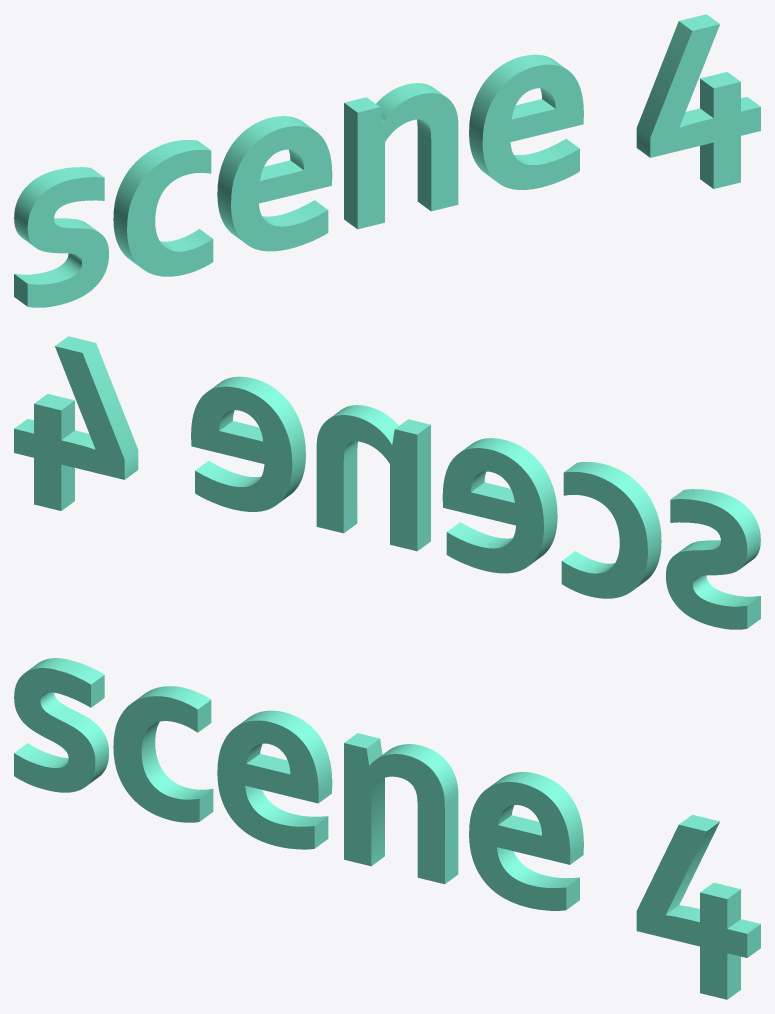
3 views of the same model, one above another, from view 1: azimuth 30°, elevation 25°; view 2: azimuth 150°, elevation 25°; view 3: azimuth 330°, elevation 25° (orthographic).
Parts seen in each view (by area): view 1: Polygon_2, Polygon_5, Polygon_3, Polygon_4, Polygon, Polygon_6; view 2: Polygon_2, Polygon_5, Polygon_3, Polygon_4, Polygon, Polygon_6; view 3: Polygon_5, Polygon_3, Polygon_4, Polygon_2, Polygon, Polygon_6.
Part boxes in pixels (x1,y1,x2,y2): Polygon_2: (636, 14, 760, 188); Polygon_5: (217, 116, 332, 251); Polygon_3: (469, 54, 583, 189); Polygon_4: (344, 83, 458, 229); Polygon: (14, 167, 108, 307); Polygon_6: (113, 140, 213, 276); Polygon_2: (14, 336, 138, 510); Polygon_5: (442, 438, 557, 573); Polygon_3: (191, 376, 305, 511); Polygon_4: (316, 405, 430, 551); Polygon: (666, 489, 760, 629); Polygon_6: (561, 462, 661, 598); Polygon_5: (217, 710, 332, 849); Polygon_3: (469, 772, 583, 910); Polygon_4: (344, 733, 458, 884); Polygon_2: (636, 814, 760, 999); Polygon: (14, 658, 108, 792); Polygon_6: (113, 686, 213, 822).
Size of the model in its own units: 622 by 135 by 20.
